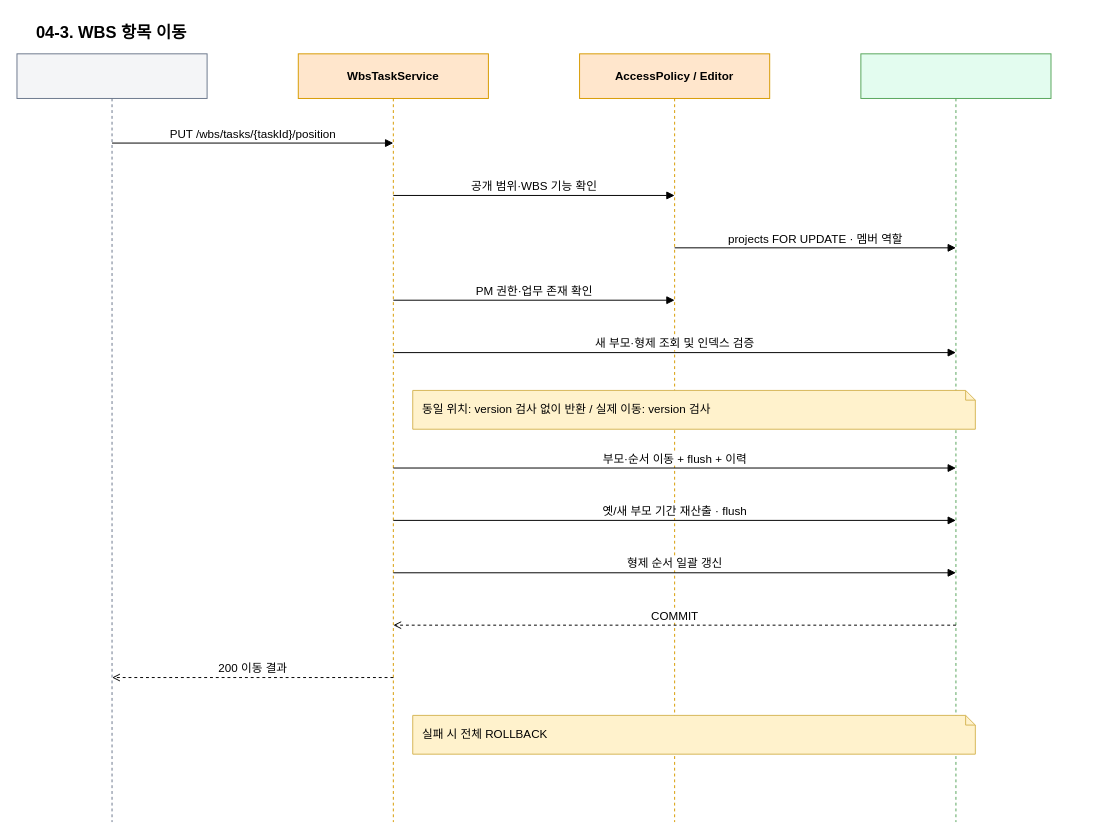
Some shapes in this 1118 by 839 pixel diagram are drawn without their labels. The box of each missing label's shape, as (x1, y1, x2, y2) in pixels:
PM FE / Controller: (16, 53, 207, 822)
PostgreSQL: (860, 53, 1051, 822)
